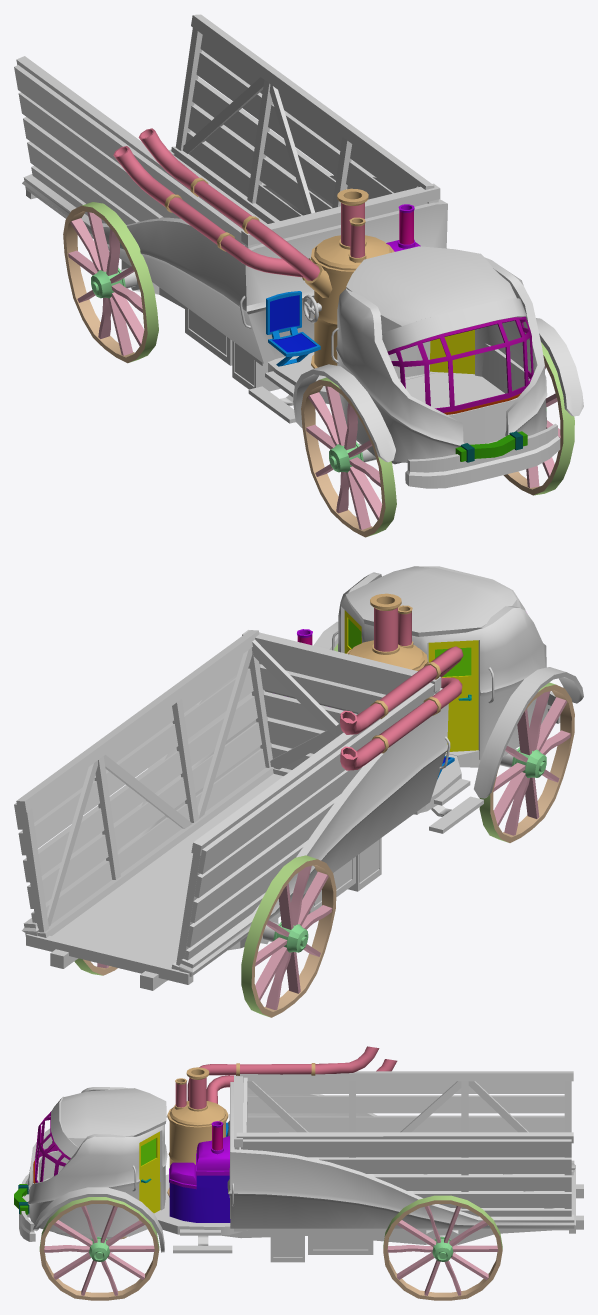
The model's file is Steam_truck.fbx.
3 views of the same model, one above another, from view 1: azimuth 30°, elevation 25°; view 2: azimuth 150°, elevation 25°; view 3: azimuth 270°, elevation 25° (orthographic). The views are drawn at different scales.
Visible parts, largest first — view 1: Cube.872, Cube.896, Cube.912, Cylinder.211, Cylinder.220, Cube.915, Cube.908, Cylinder.218, Cylinder.212, Cylinder.216, Cube.918, Cube.914 (+19 smaller); view 2: Cube.872, Cube.896, Cylinder.220, Cube.870, Cube.912, Cylinder.211, Cube.915, Cube.908, Cube.901, Cylinder.218, Cube.919, Cube.881 (+18 smaller); view 3: Cube.872, Cube.896, Cube.912, Cube.908, Cylinder.220, Cylinder.211, Cube.915, Cube.905, Cylinder.212, Cylinder.216, Cube.907, Cube.893 (+21 smaller).
Boxes of the visible parts, x1,y1,x2,y2 form: Cube.872: (14, 35, 412, 245); Cube.896: (22, 174, 447, 363); Cube.912: (336, 257, 547, 462); Cylinder.211: (301, 342, 574, 537); Cylinder.220: (63, 202, 158, 363); Cube.915: (346, 246, 516, 333); Cube.908: (16, 14, 434, 228); Cylinder.218: (293, 318, 583, 462); Cylinder.212: (311, 188, 394, 368); Cylinder.216: (138, 128, 332, 297); Cube.918: (405, 423, 560, 488); Cube.914: (387, 316, 533, 414); Cube.872: (14, 654, 434, 960); Cube.896: (22, 674, 448, 976); Cylinder.220: (74, 855, 336, 1017); Cube.870: (52, 774, 283, 965); Cube.912: (338, 572, 547, 760); Cylinder.211: (334, 644, 574, 842); Cube.915: (345, 566, 517, 636); Cube.908: (16, 630, 429, 856); Cube.901: (259, 651, 400, 769); Cylinder.218: (313, 621, 583, 798); Cube.919: (344, 610, 478, 751); Cube.881: (37, 767, 273, 970); Cube.872: (241, 1081, 571, 1216); Cube.896: (227, 1082, 575, 1228); Cube.912: (27, 1087, 167, 1233); Cube.908: (236, 1071, 573, 1143); Cylinder.220: (383, 1195, 502, 1300); Cylinder.211: (39, 1197, 159, 1300); Cube.915: (60, 1088, 166, 1147); Cube.905: (169, 1136, 230, 1222); Cylinder.212: (167, 1067, 228, 1197); Cylinder.216: (187, 1046, 379, 1100); Cube.907: (154, 1174, 247, 1253); Cube.893: (308, 1230, 373, 1254).
Bounding box in the file's own units: 309 × 341 × 921.
